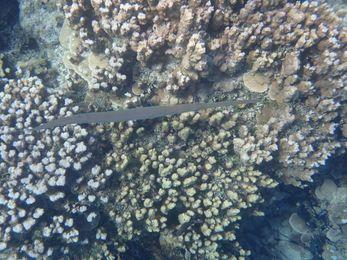Fistularia commersonii: (0, 0, 346, 259), (1, 72, 291, 140)
